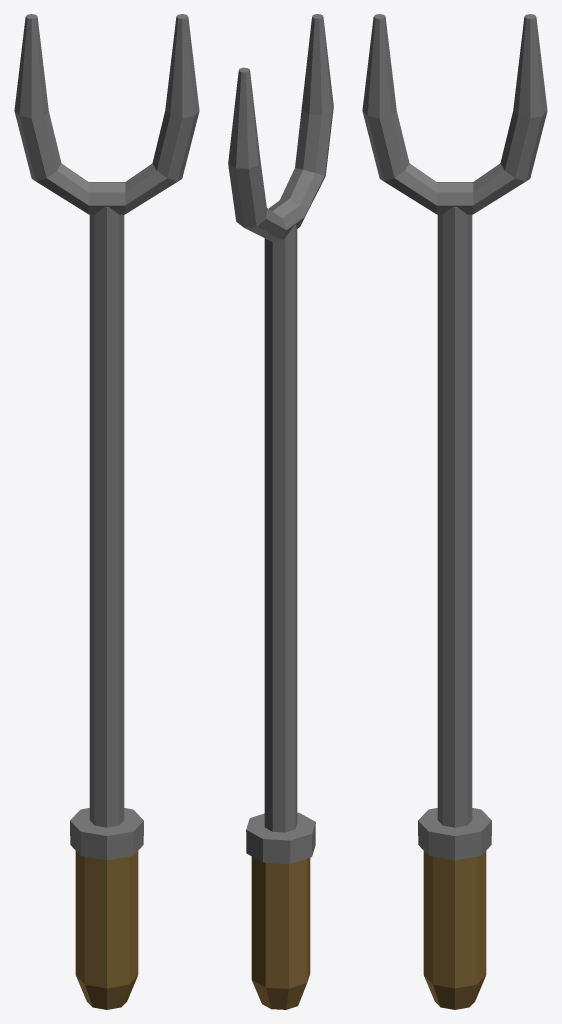
Rendered from SM_Skewer.fbx.
The picture shows the model from 3 angles, left to right: view 1: azimuth 90°, elevation 25°; view 2: azimuth 150°, elevation 25°; view 3: azimuth 270°, elevation 25°; orthographic projection. The views are drawn at different scales.
Visible parts, largest first — view 1: Cylinder.001; view 2: Cylinder.001; view 3: Cylinder.001.
Part boxes in pixels (<box>): Cylinder.001: <box>14,14,199,1009</box>; Cylinder.001: <box>228,14,333,1009</box>; Cylinder.001: <box>362,14,547,1009</box>.
Size of the model in its own units: 121 by 1767 by 301.
